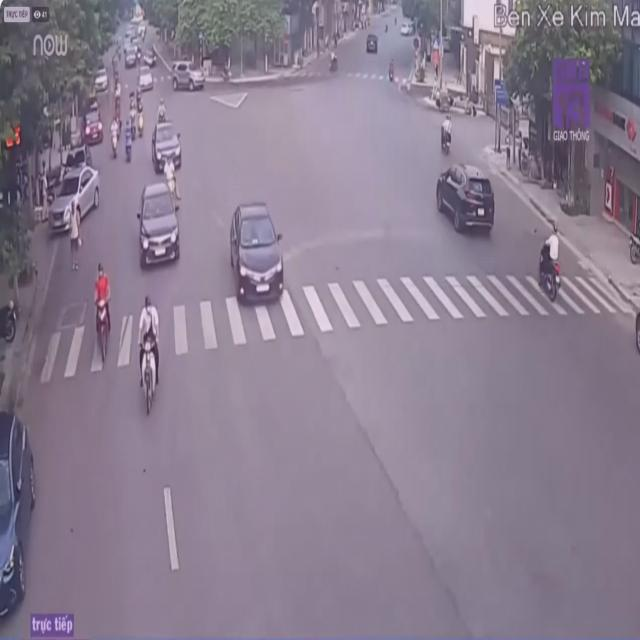car: (1, 413, 36, 625), (231, 200, 289, 304), (438, 163, 498, 239), (136, 182, 174, 269), (152, 121, 184, 177)
motorbike: (135, 296, 163, 414), (89, 261, 113, 359), (534, 232, 563, 303), (164, 158, 178, 197)
